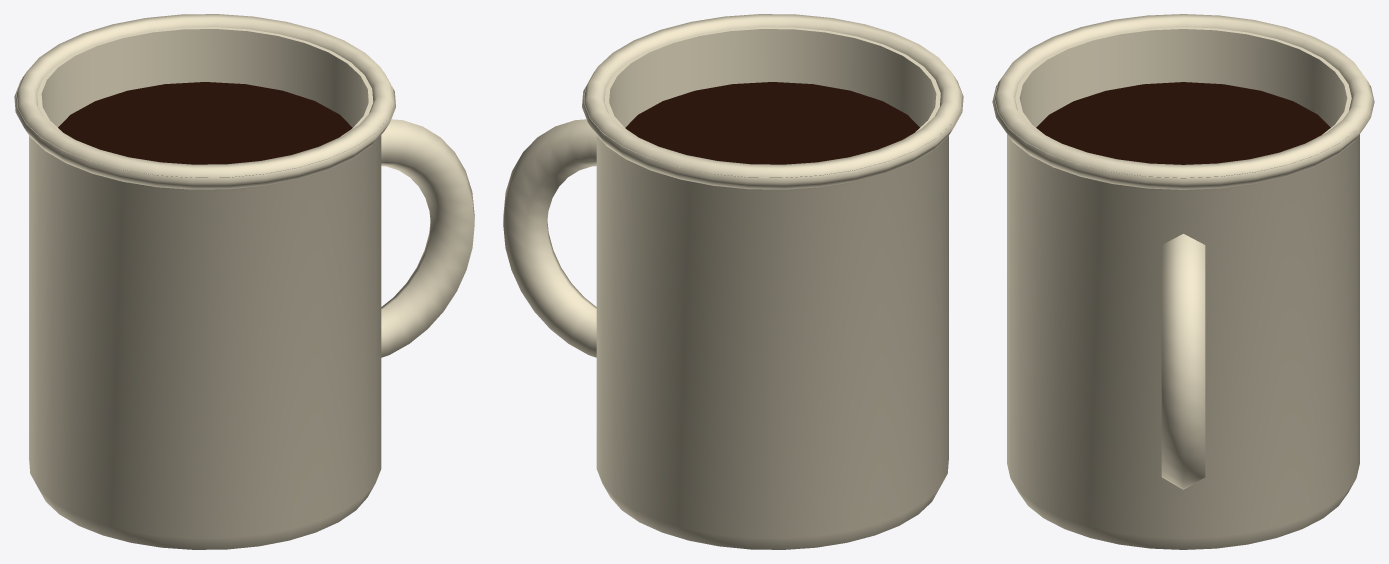
The model's file is MugCream.glb.
3 renders of one model, left to right at view 1: azimuth 30°, elevation 25°; view 2: azimuth 150°, elevation 25°; view 3: azimuth 270°, elevation 25°, orthographic.
Visible parts, largest first — view 1: MugCream_Body; view 2: MugCream_Body; view 3: MugCream_Body.
Boxes of the visible parts, x1,y1,x2,y2 form: MugCream_Body: (14,14,474,549); MugCream_Body: (503,14,963,549); MugCream_Body: (992,14,1374,549).
Bounding box in the file's own units: 0.1195 × 0.1016 × 0.091.
